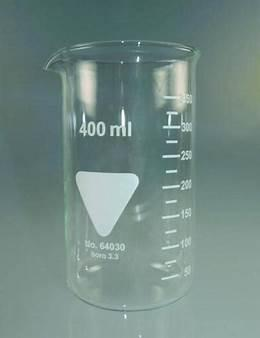Beaker: (34, 33, 205, 304)
